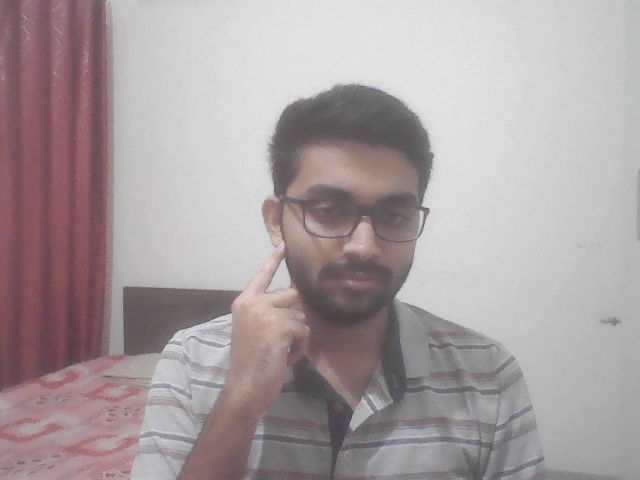deaf: (209, 224, 317, 433)
